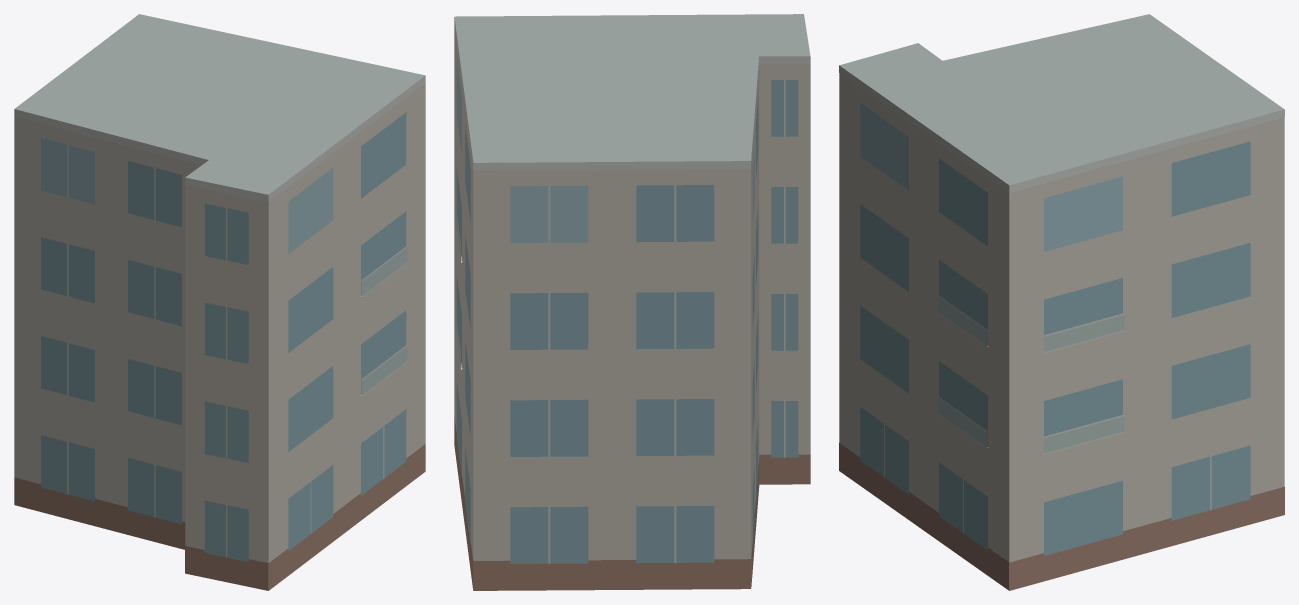
Rendered from survey-upis-32763458.glb.
3 views of the same model, side by side, from view 1: azimuth 30°, elevation 25°; view 2: azimuth 150°, elevation 25°; view 3: azimuth 270°, elevation 25° (orthographic). The views are drawn at different scales.
Visible parts, largest first — view 1: survey-upis-32763458.tmp; view 2: survey-upis-32763458.tmp; view 3: survey-upis-32763458.tmp.
Part boxes in pixels (box(x1,y1,x2,y2)): survey-upis-32763458.tmp: box(14, 14, 425, 590); survey-upis-32763458.tmp: box(454, 14, 810, 590); survey-upis-32763458.tmp: box(839, 14, 1284, 590).
Size of the model in its own units: 11.7 by 12.9 by 12.86.
